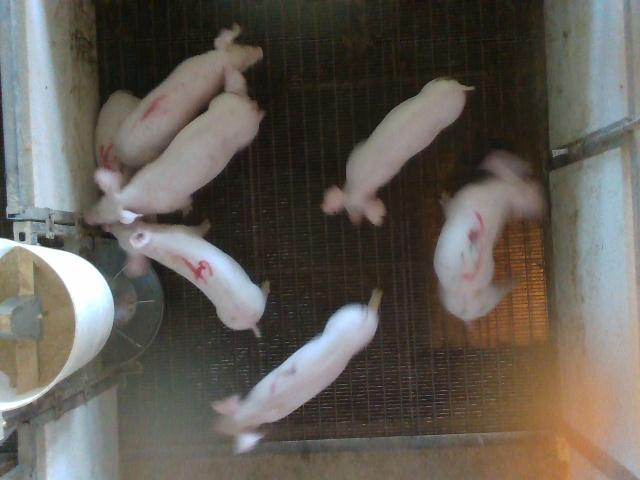pig-1: (116, 24, 262, 167)
pig-2: (212, 290, 381, 454)
pig-3: (434, 151, 544, 321)
pig-4: (106, 220, 269, 336)
pig-5: (95, 90, 140, 181)
